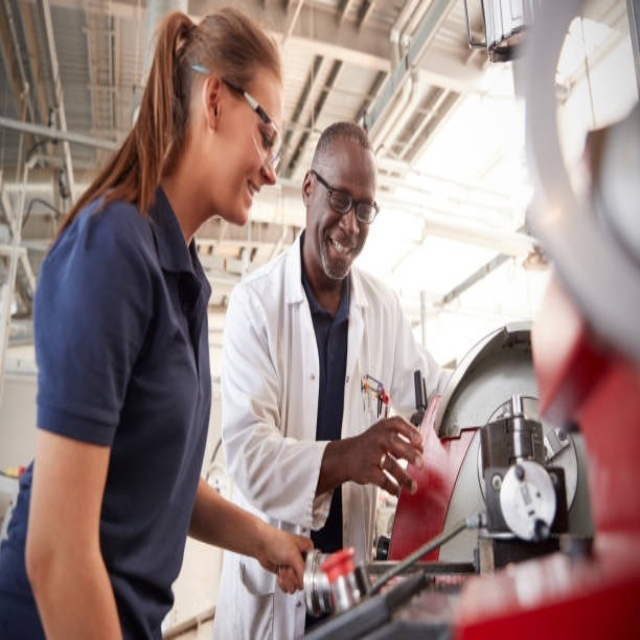Gafas: (514, 0, 640, 374), (193, 66, 284, 170), (311, 169, 379, 226)
Sin_guantes: (349, 415, 425, 497), (253, 520, 314, 593)
Sin_mascara: (225, 179, 265, 220), (324, 231, 357, 276)
